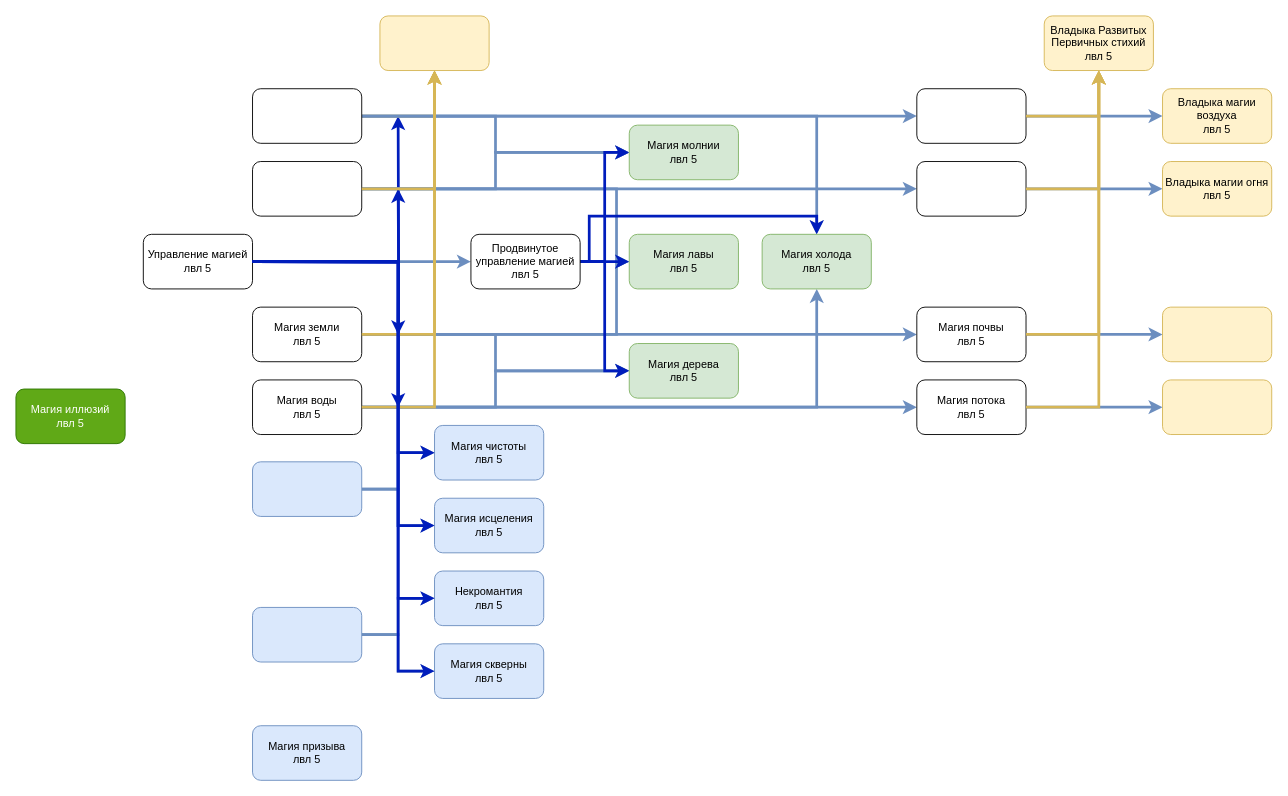
Image size: 1288x796. Some labels were removed from this diagram. The shapes that lost their labels are listed below. From the top down, each one's centre as x and y in pixels, then its label:
(434,43): Владыка Первичных стихий лвл 5
(307,115): Магия воздуха лвл 5
(971,115): Магия ветра лвл 5
(307,188): Магия огня лвл 5
(971,188): Магия пламени лвл 5
(1217,334): Владыка магии земли лвл 5
(1217,407): Владыка магии воды лвл 5
(307,488): Магия света лвл 5
(307,634): Магия тьмы лвл 5
